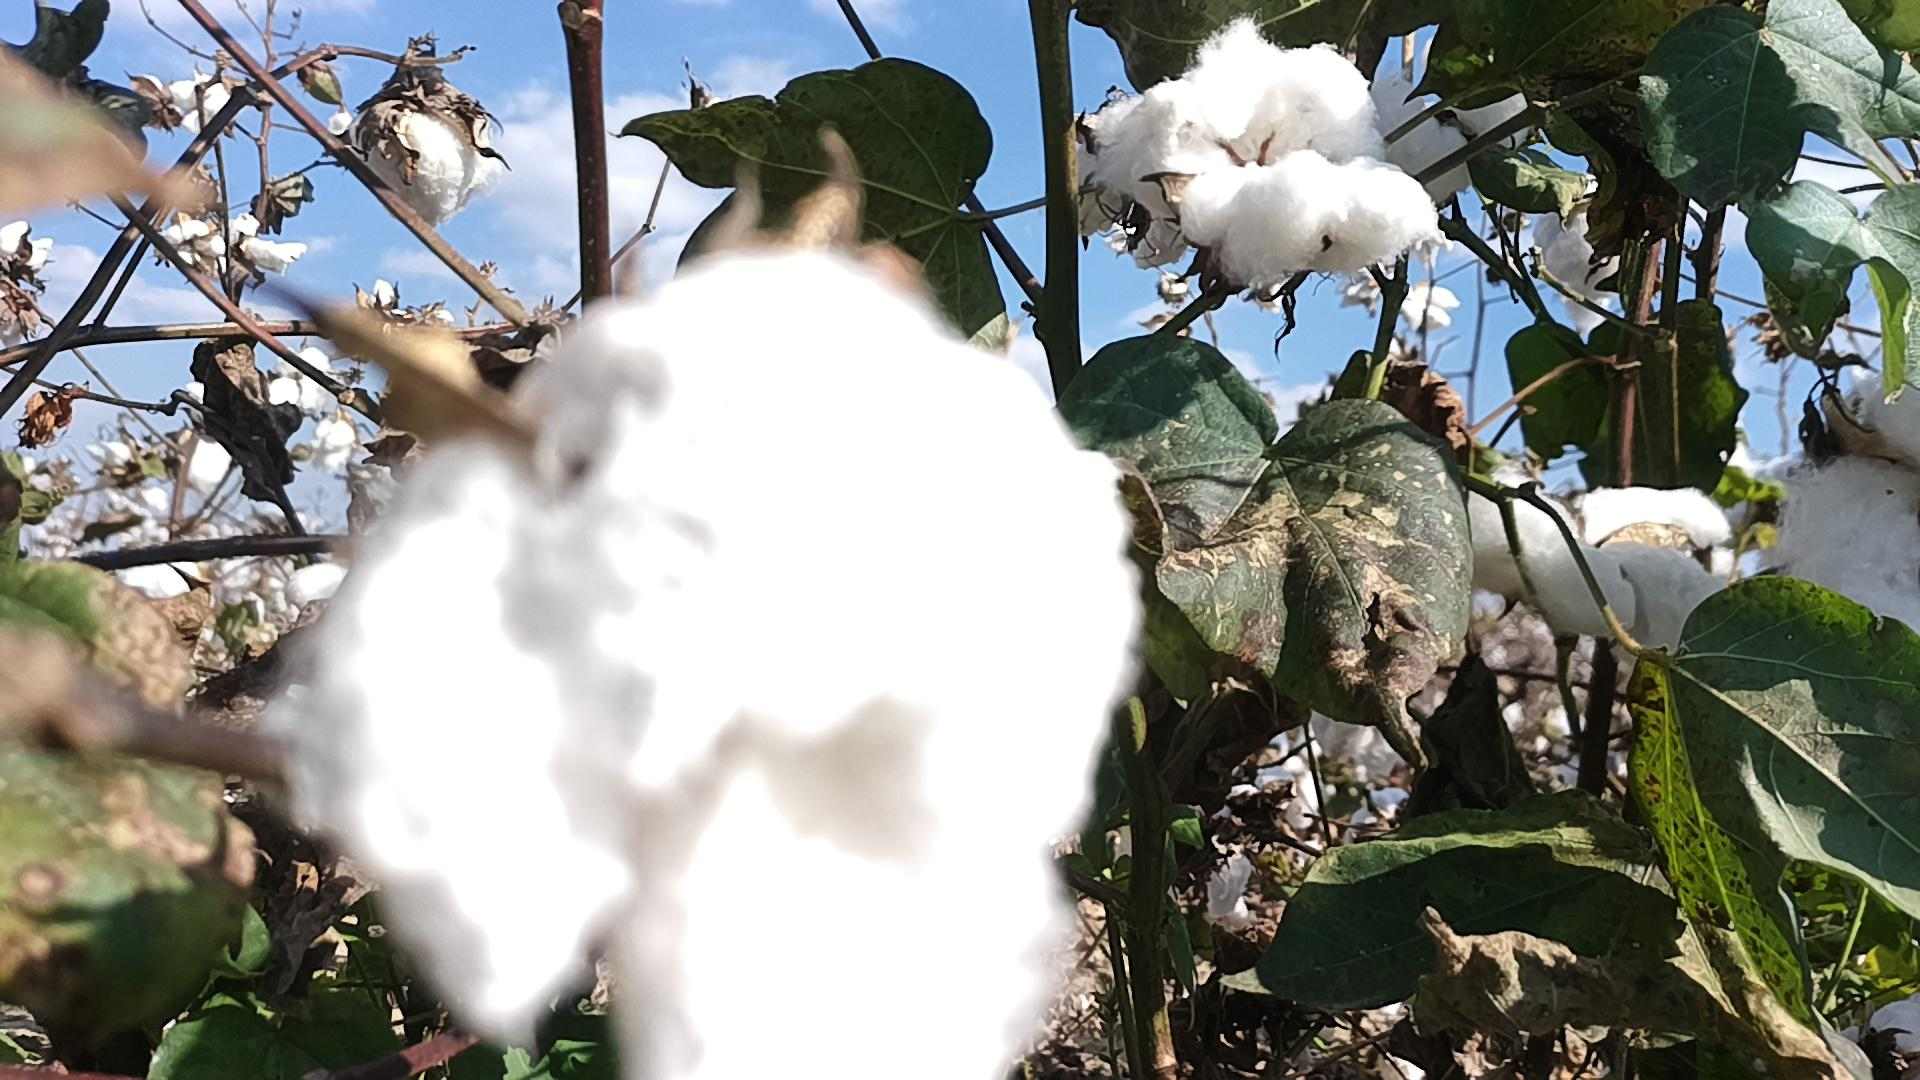cotton_ready: (286, 245, 1143, 1080), (1104, 16, 1445, 286), (1458, 468, 1735, 659), (1771, 376, 1920, 647), (1381, 63, 1540, 202), (356, 98, 502, 228), (1534, 195, 1638, 306), (1068, 91, 1139, 243)
